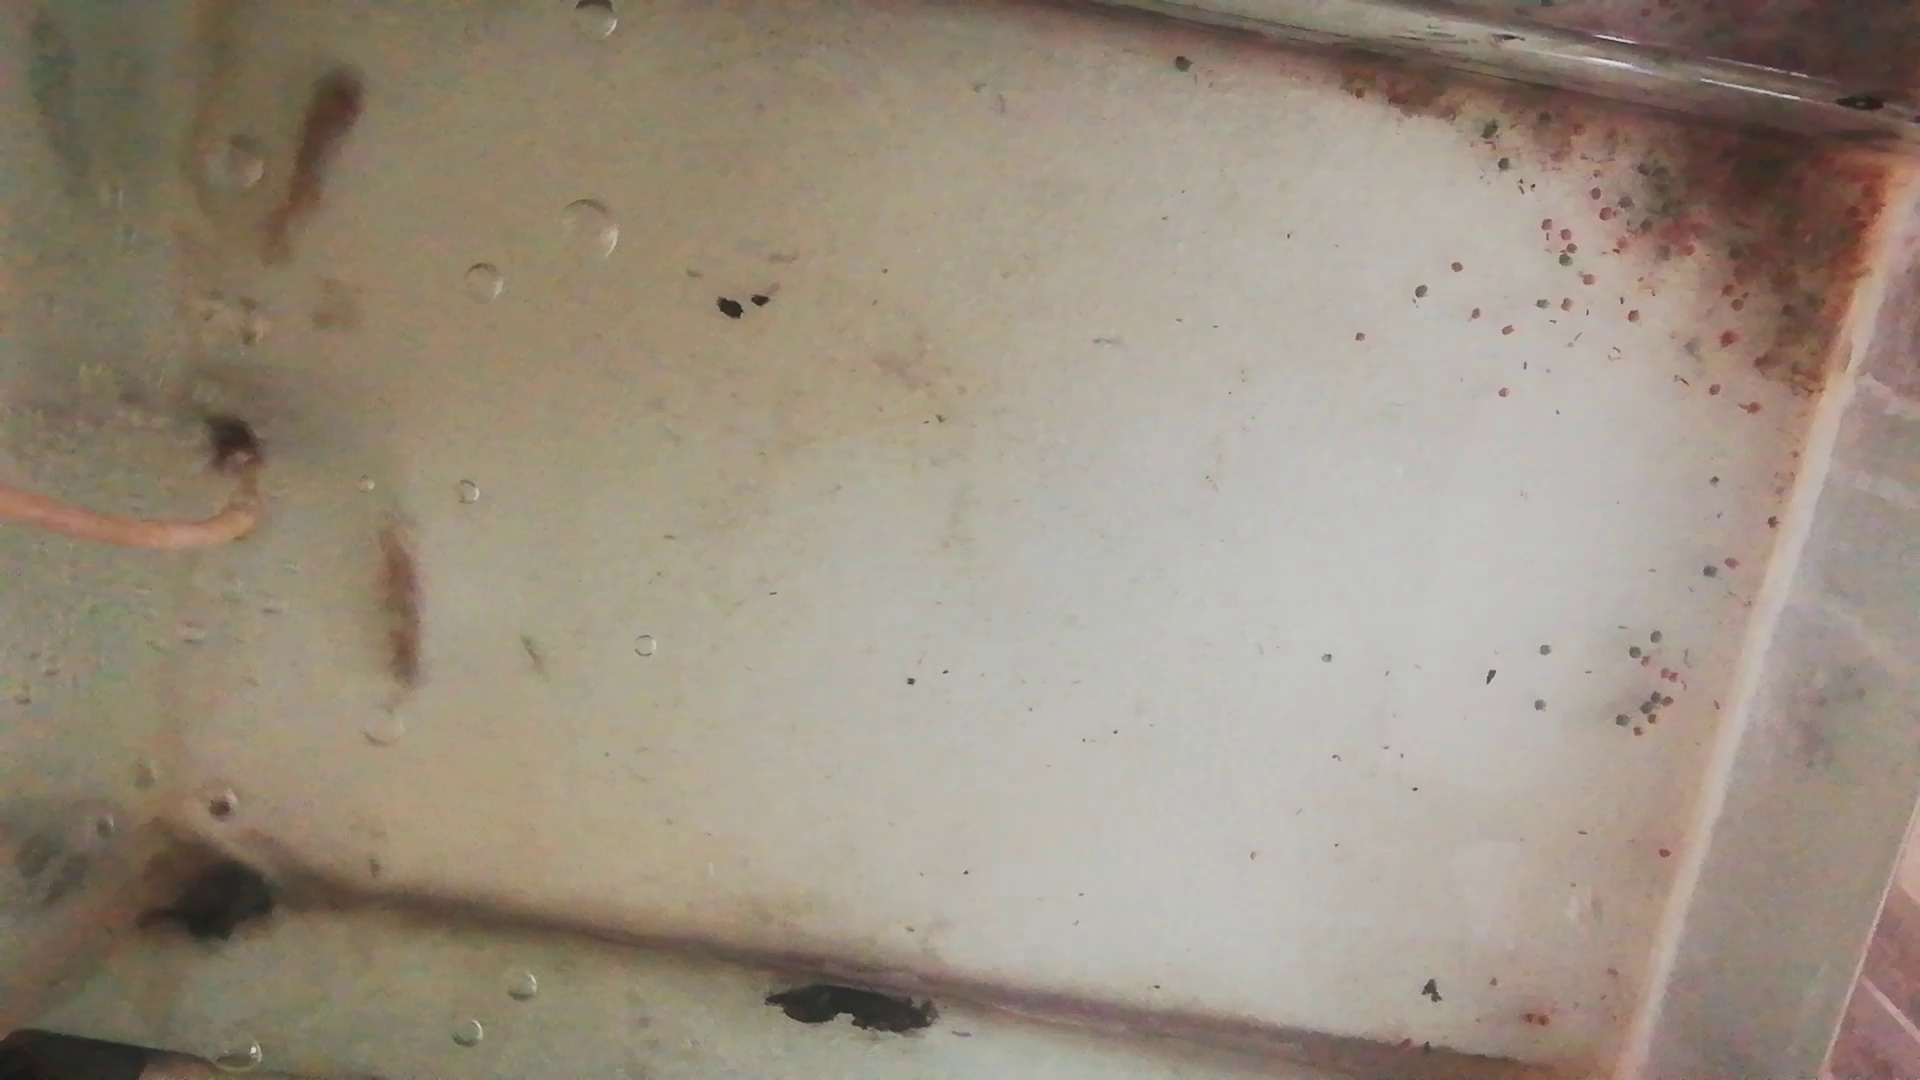fish: (262, 65, 361, 264), (375, 520, 436, 698)
